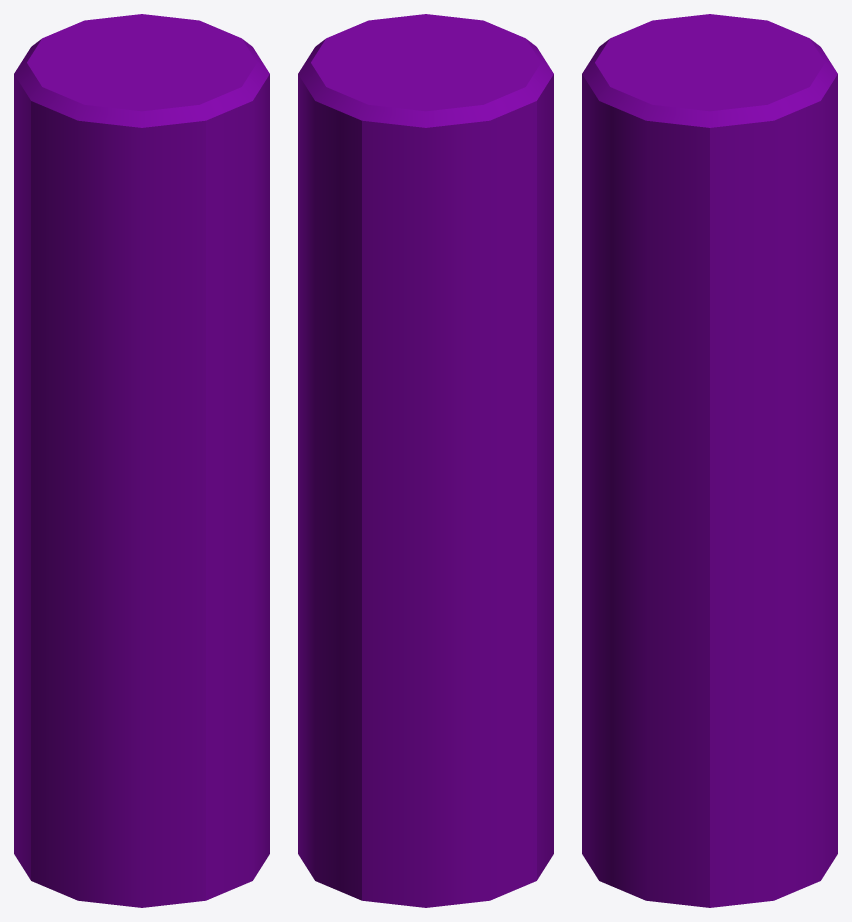
File: geo_gear_pilier.fbx
3 renders of one model, left to right at view 1: azimuth 30°, elevation 25°; view 2: azimuth 150°, elevation 25°; view 3: azimuth 270°, elevation 25°, orthographic.
Parts seen in each view (by area): view 1: geo_gear_pilier; view 2: geo_gear_pilier; view 3: geo_gear_pilier.
Boxes of the visible parts, <box> form: geo_gear_pilier: <box>14,14,269,907</box>; geo_gear_pilier: <box>298,14,553,907</box>; geo_gear_pilier: <box>582,14,837,907</box>.
Size of the model in its own units: 0.3748 by 1.28 by 0.3748.
